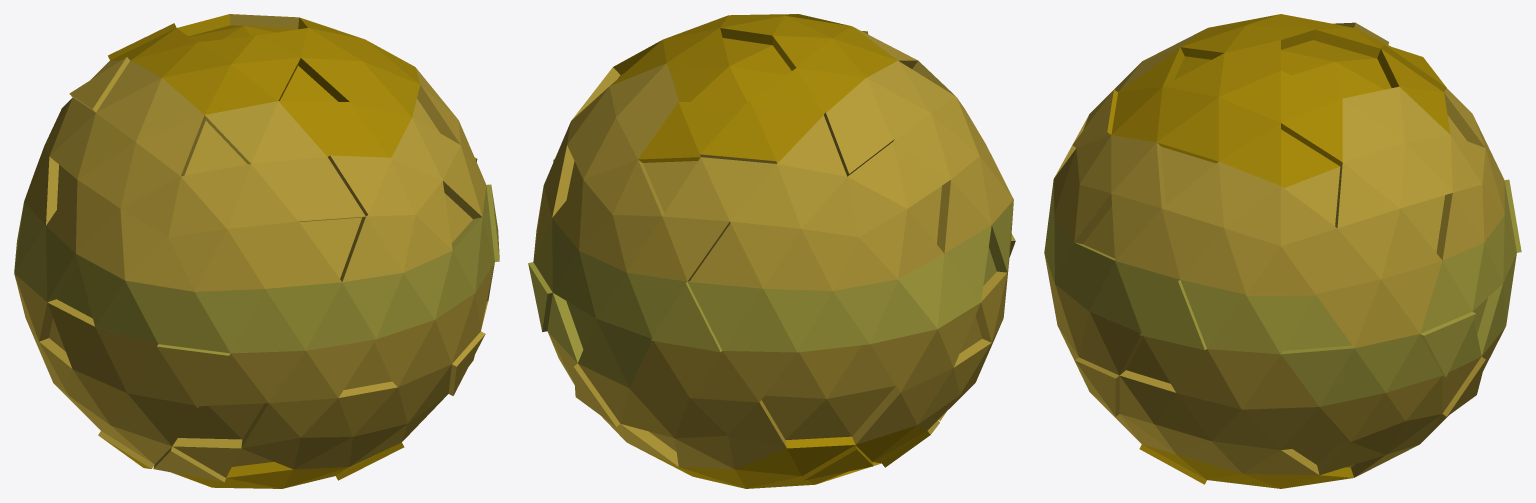
The picture shows the model from 3 angles, left to right: view 1: azimuth 30°, elevation 25°; view 2: azimuth 150°, elevation 25°; view 3: azimuth 270°, elevation 25°; orthographic projection.
Visible parts, largest first — view 1: Icosphere; view 2: Icosphere; view 3: Icosphere.
Part boxes in pixels (left/top/right/bottom): Icosphere: left=14, top=14, right=499, bottom=488; Icosphere: left=528, top=14, right=1015, bottom=488; Icosphere: left=1044, top=14, right=1521, bottom=488.
Size of the model in its own units: 0.3713 by 0.3637 by 0.3673.
